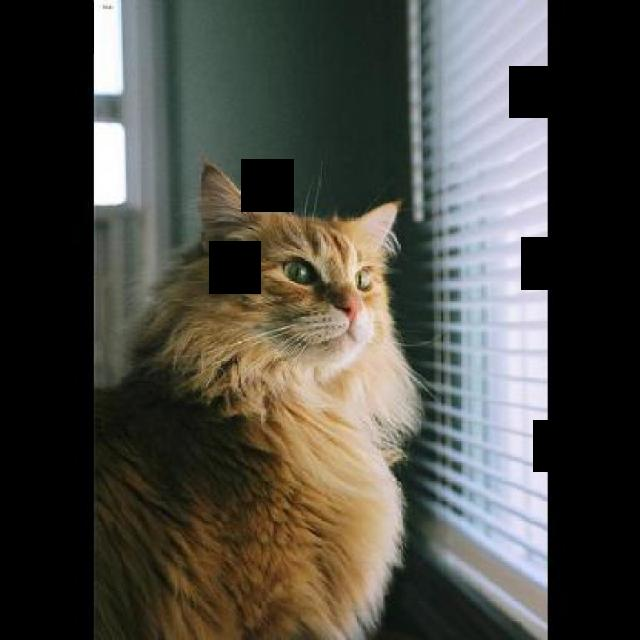unauthorized: (92, 158, 434, 638)
